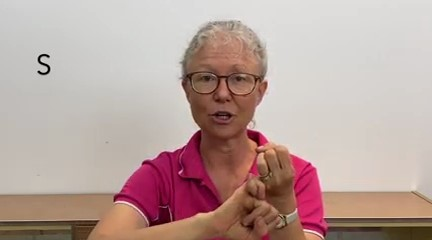S: (203, 139, 315, 236)
